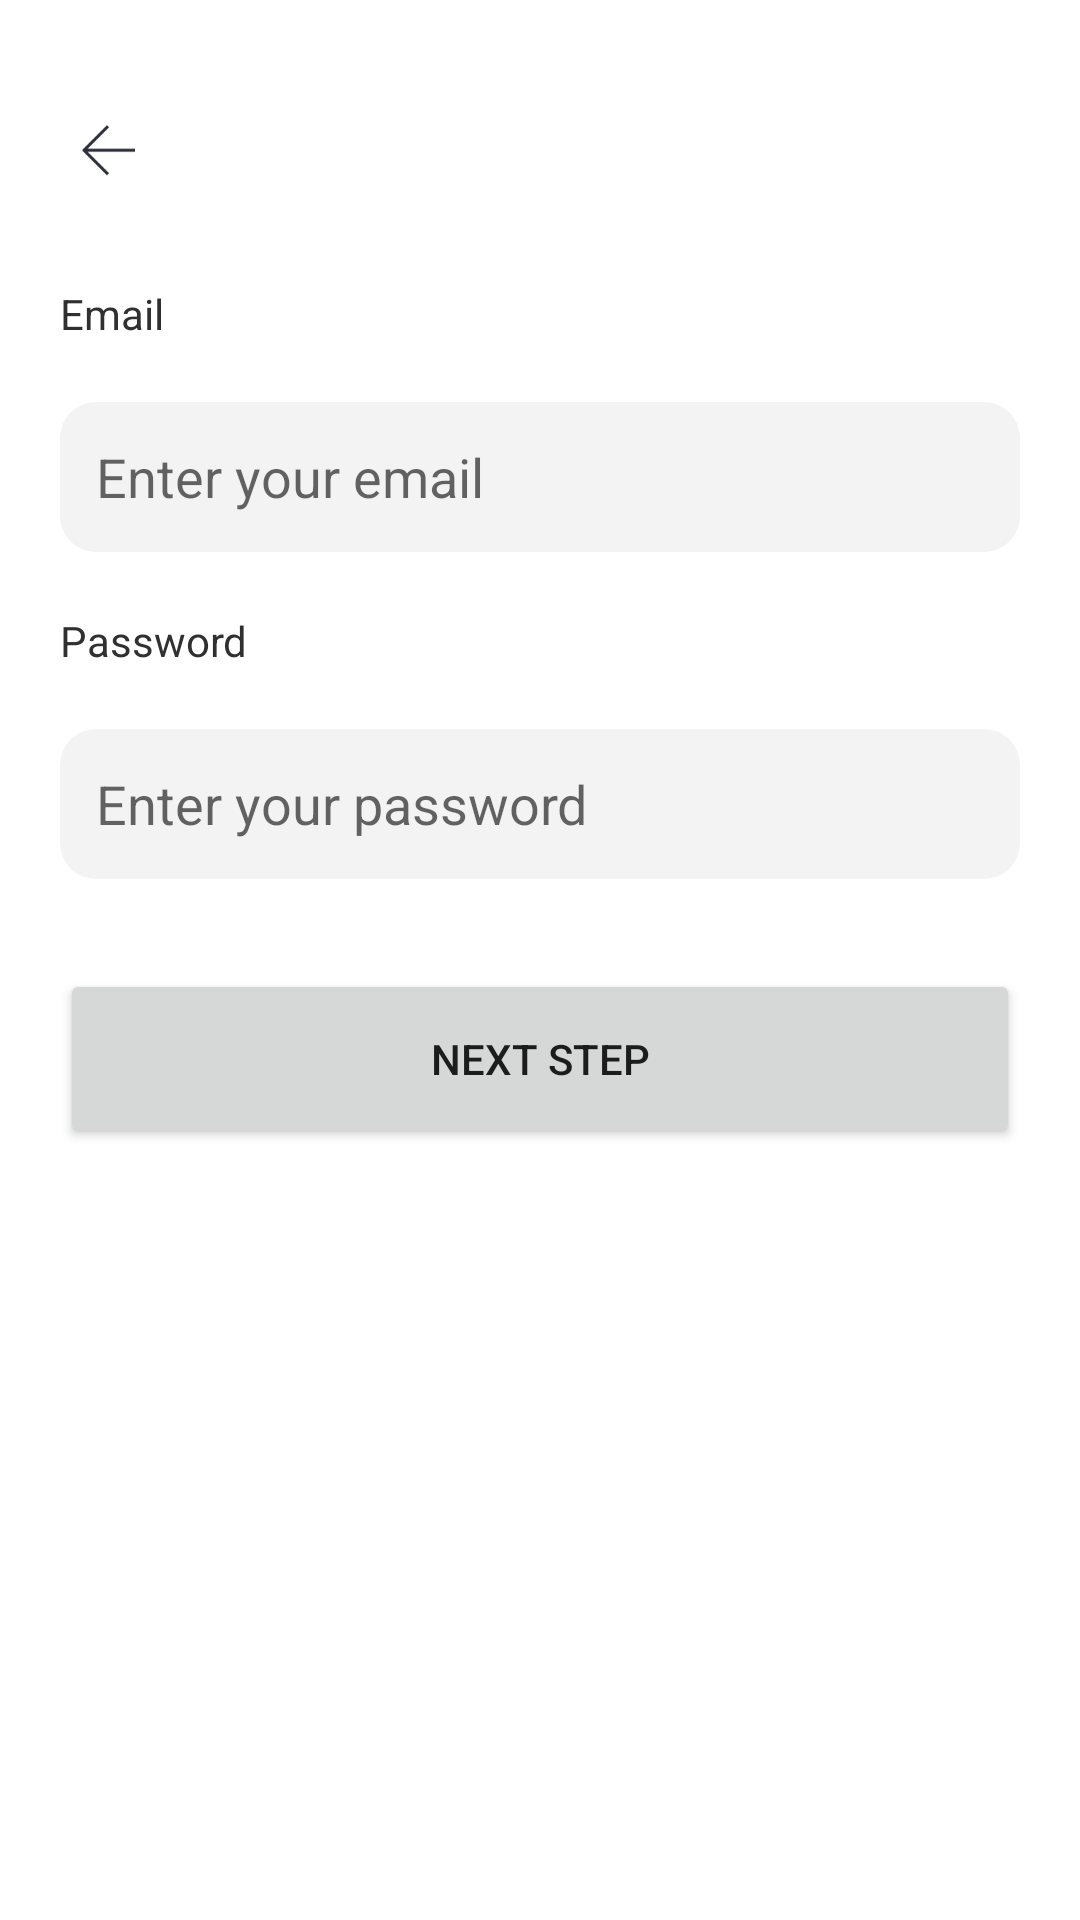

Point at icon controls on the screen. Image size 1080 x 1920, points as point (x, y).
back: point (108, 150)
